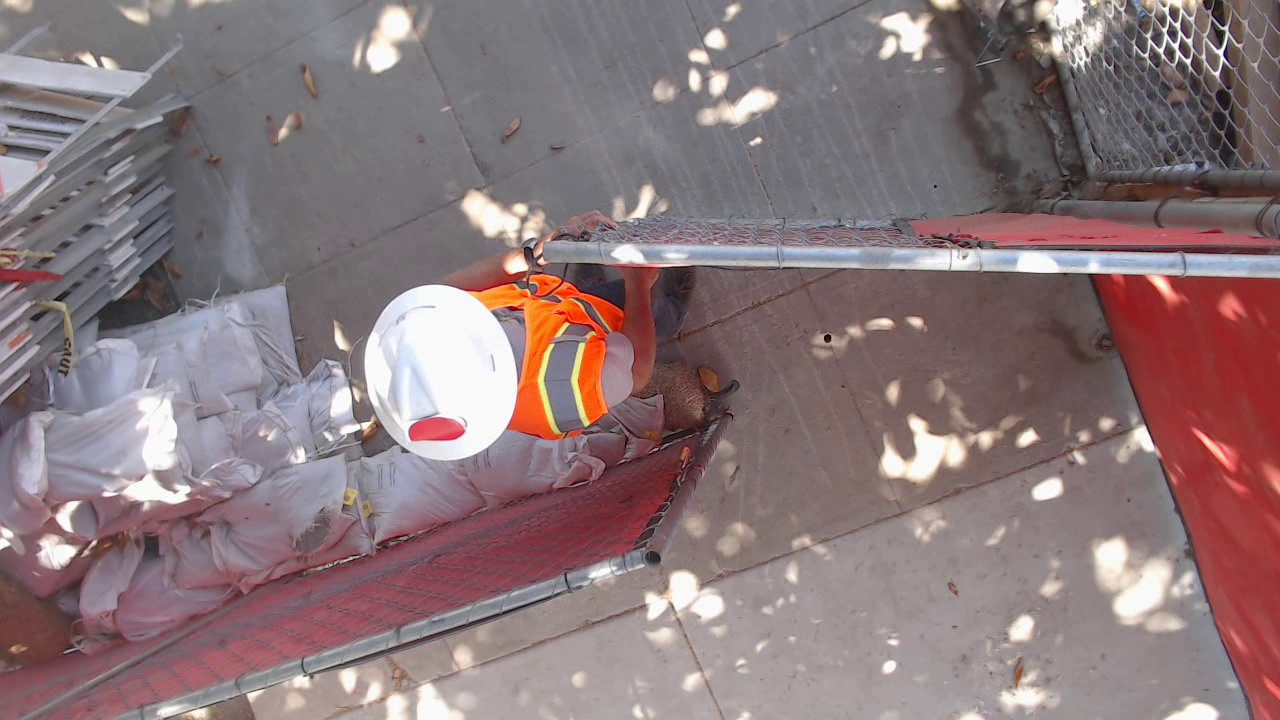hardhat: (872, 649, 1040, 720)
person: (747, 476, 1049, 720)
safetyvest: (749, 427, 944, 711)
yellow: (919, 706, 971, 720)
